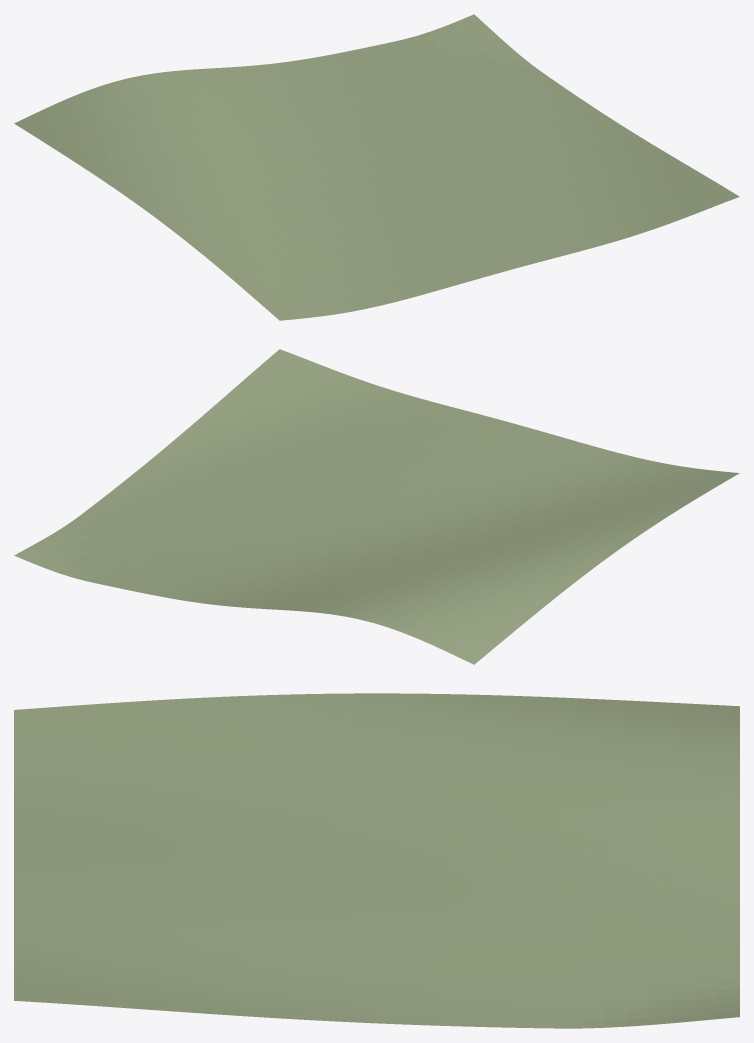
The model's file is desert-3-7.glb.
The picture shows the model from 3 angles, top to bottom: view 1: azimuth 30°, elevation 25°; view 2: azimuth 150°, elevation 25°; view 3: azimuth 270°, elevation 25°; orthographic projection. The views are drawn at different scales.
Visible parts, largest first — view 1: desert-3-7; view 2: desert-3-7; view 3: desert-3-7.
Boxes of the visible parts, <box> form: desert-3-7: <box>14,14,739,320</box>; desert-3-7: <box>14,349,739,664</box>; desert-3-7: <box>14,693,739,1028</box>.
Bounding box in the file's own units: 512 × 31.56 × 512.
